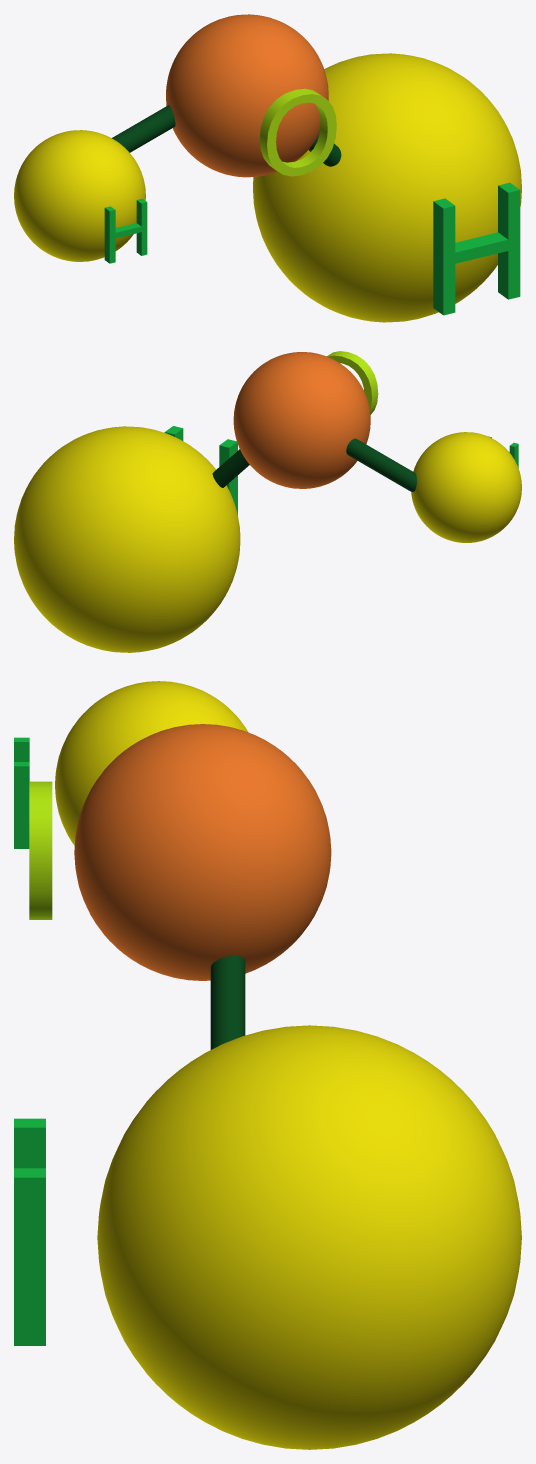
Rendered from water_so.glb.
3 renders of one model, top to bottom at view 1: azimuth 30°, elevation 25°; view 2: azimuth 150°, elevation 25°; view 3: azimuth 270°, elevation 25°, orthographic. The views are drawn at different scales.
Visible parts, largest first — view 1: mesh_id40, mesh_id57, mesh_id66, mesh_id51, mesh_id82, mesh_id68, mesh_id84; view 2: mesh_id40, mesh_id57, mesh_id66, mesh_id84, mesh_id82, mesh_id51, mesh_id90; view 3: mesh_id40, mesh_id57, mesh_id66, mesh_id51, mesh_id82, mesh_id90, mesh_id68.
Part boxes in pixels (x1=…): mesh_id40: x1=253, y1=53, x2=521, y2=322; mesh_id57: x1=166, y1=14, x2=328, y2=177; mesh_id66: x1=14, y1=130, x2=145, y2=261; mesh_id51: x1=433, y1=182, x2=520, y2=315; mesh_id82: x1=259, y1=88, x2=336, y2=176; mesh_id68: x1=104, y1=198, x2=147, y2=263; mesh_id84: x1=112, y1=105, x2=175, y2=152; mesh_id40: x1=14, y1=426, x2=240, y2=652; mesh_id57: x1=233, y1=352, x2=370, y2=488; mesh_id66: x1=411, y1=432, x2=521, y2=542; mesh_id84: x1=346, y1=438, x2=416, y2=491; mesh_id82: x1=327, y1=351, x2=378, y2=414; mesh_id51: x1=164, y1=426, x2=237, y2=514; mesh_id90: x1=212, y1=449, x2=249, y2=487; mesh_id40: x1=97, y1=1025, x2=521, y2=1449; mesh_id57: x1=74, y1=724, x2=331, y2=980; mesh_id66: x1=55, y1=681, x2=248, y2=845; mesh_id51: x1=14, y1=1118, x2=45, y2=1345; mesh_id82: x1=29, y1=781, x2=52, y2=919; mesh_id90: x1=210, y1=955, x2=245, y2=1049; mesh_id68: x1=14, y1=737, x2=29, y2=848.
Size of the model in its own units: 0.627 by 0.4022 by 0.3306.
8 materials, 8 textured.
